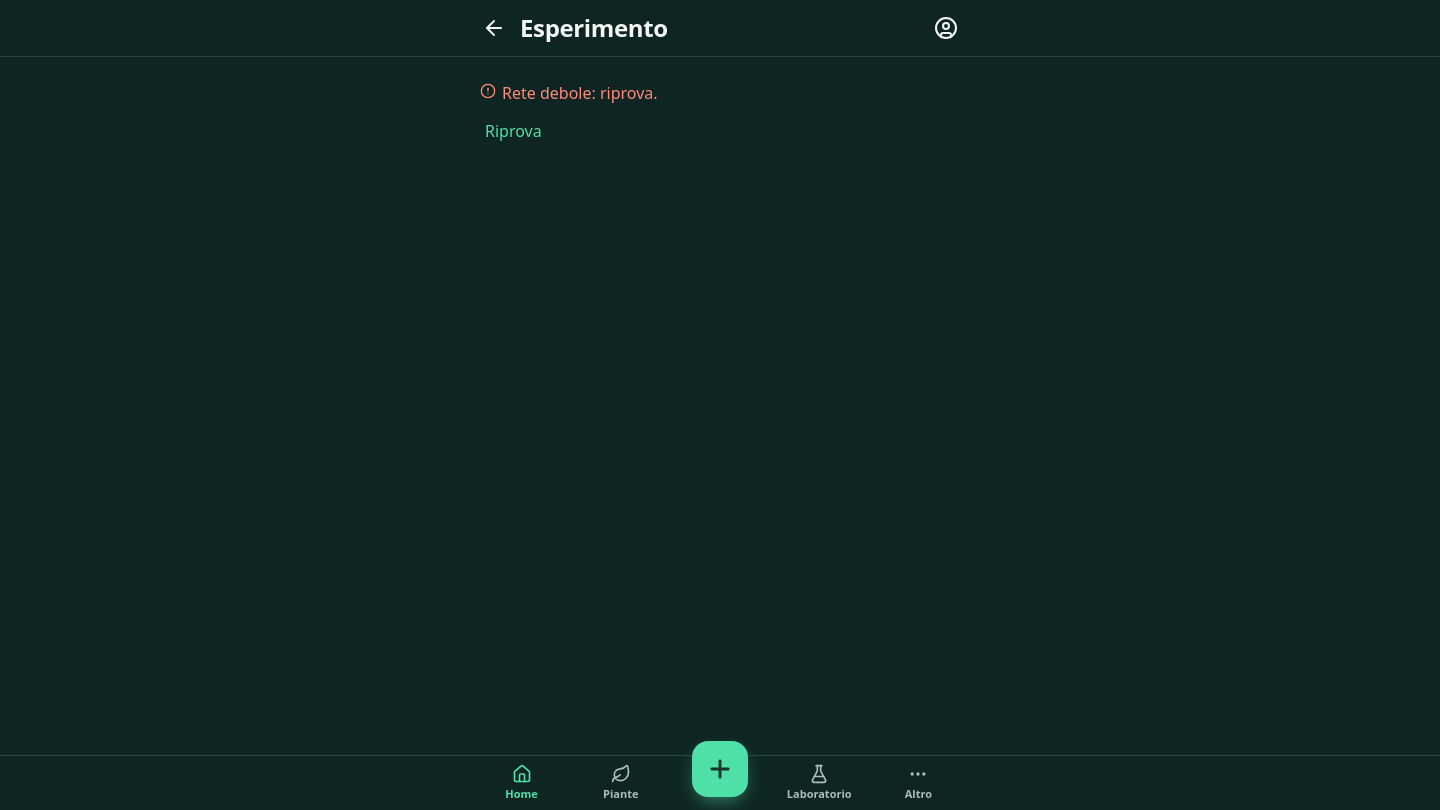
Scenario: HomeEsperimento: caricamento ed errori › se la configurazione non arriva lo dice e permette di riprovare
This screenshot has width=1440, height=810.
Expected: the message shows "Rete debole", top-left (502, 82), bottom-right (658, 104)
Step 1. Click the button "Riprova" → x=513, y=131, box top-left (468, 109), bottom-right (559, 153)
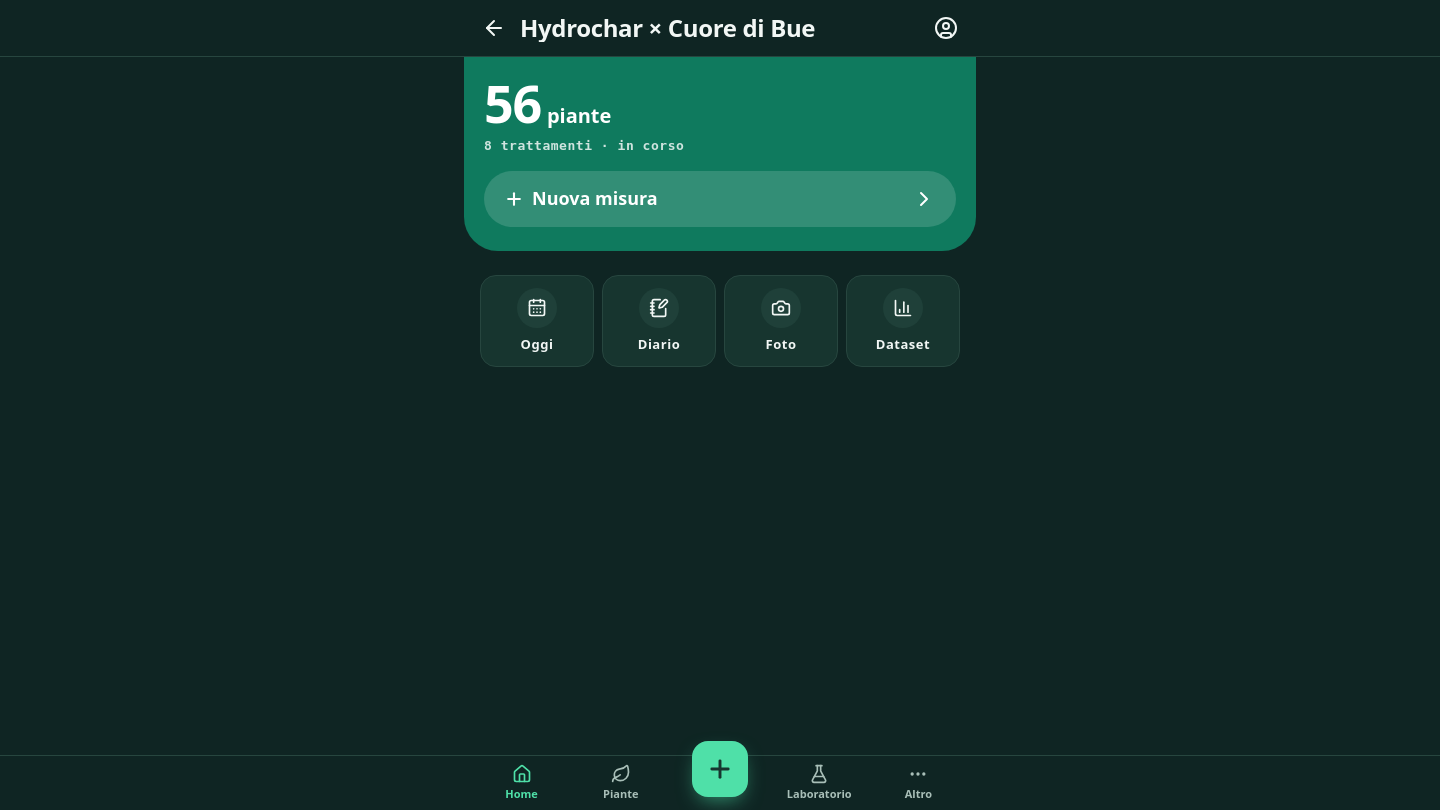
Expected: the link "Nuova misura" is shown, top-left (484, 171), bottom-right (956, 227)
